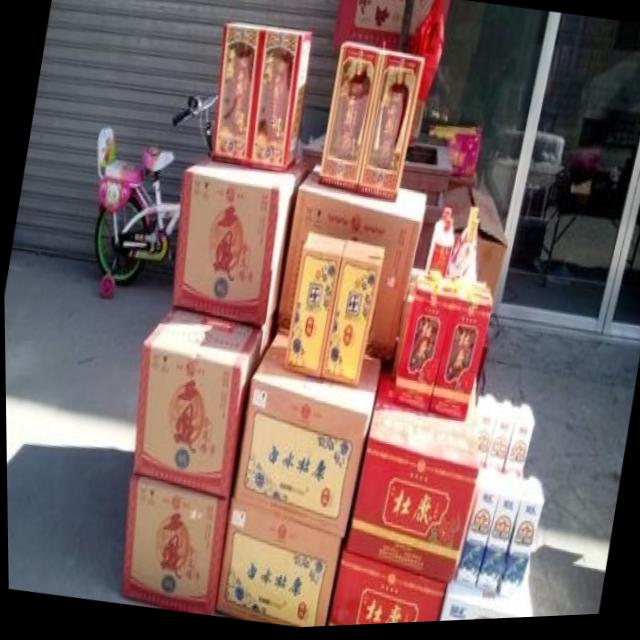box: (231, 328, 381, 541), (343, 360, 476, 590), (274, 167, 427, 364), (131, 309, 277, 500), (170, 154, 312, 330), (213, 501, 340, 630), (119, 476, 227, 617), (355, 49, 424, 206), (454, 476, 542, 598), (318, 42, 382, 196), (319, 241, 385, 389), (325, 551, 444, 629), (283, 233, 346, 380), (249, 29, 312, 175), (427, 282, 491, 424), (389, 280, 452, 414), (210, 23, 267, 169), (440, 189, 506, 298), (406, 0, 448, 147), (436, 573, 530, 625), (476, 400, 534, 481), (333, 0, 405, 56), (427, 125, 482, 178)
